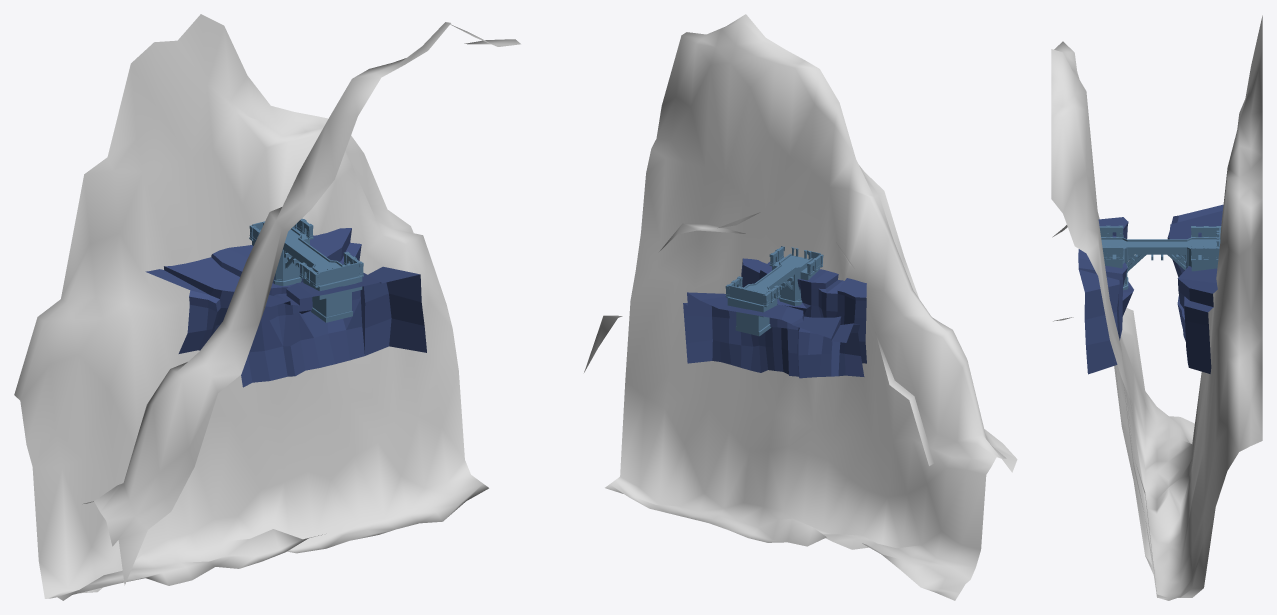
The model's file is MAIN.glb.
3 views of the same model, side by side, from view 1: azimuth 30°, elevation 25°; view 2: azimuth 150°, elevation 25°; view 3: azimuth 270°, elevation 25° (orthographic). The views are drawn at different scales.
Parts seen in each view (by area): view 1: Mountains, Wall 2, Wall 1, Bridge, Outer; view 2: Mountains, Wall 1, Wall 2, Bridge, Outer; view 3: Mountains, Wall 1, Wall 2, Bridge, Outer.
Boxes of the visible parts, x1,y1,x2,y2 form: Mountains: [14, 14, 520, 600]; Wall 2: [241, 266, 426, 387]; Wall 1: [145, 228, 361, 353]; Bridge: [273, 227, 352, 322]; Outer: [249, 218, 363, 299]; Mountains: [584, 14, 1017, 600]; Wall 1: [683, 292, 864, 378]; Wall 2: [741, 258, 866, 363]; Bridge: [735, 253, 812, 336]; Outer: [725, 246, 823, 317]; Mountains: [1051, 15, 1262, 600]; Wall 1: [1167, 204, 1223, 373]; Wall 2: [1078, 217, 1133, 374]; Bridge: [1101, 237, 1216, 290]; Outer: [1099, 225, 1221, 271].
Size of the model in its own units: 1288 by 1625 by 587.
